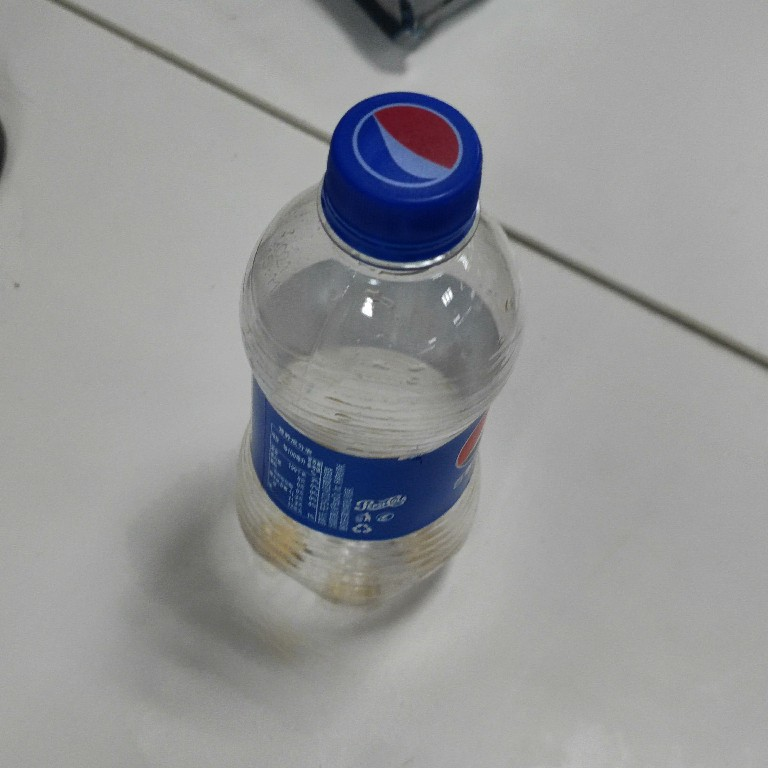bottle: (233, 89, 529, 615)
